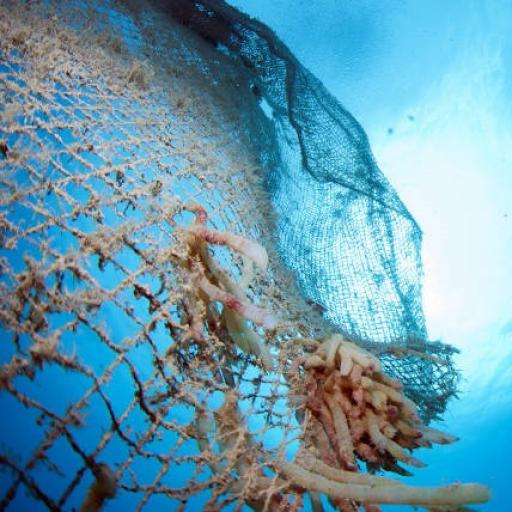net: (0, 3, 496, 512)
